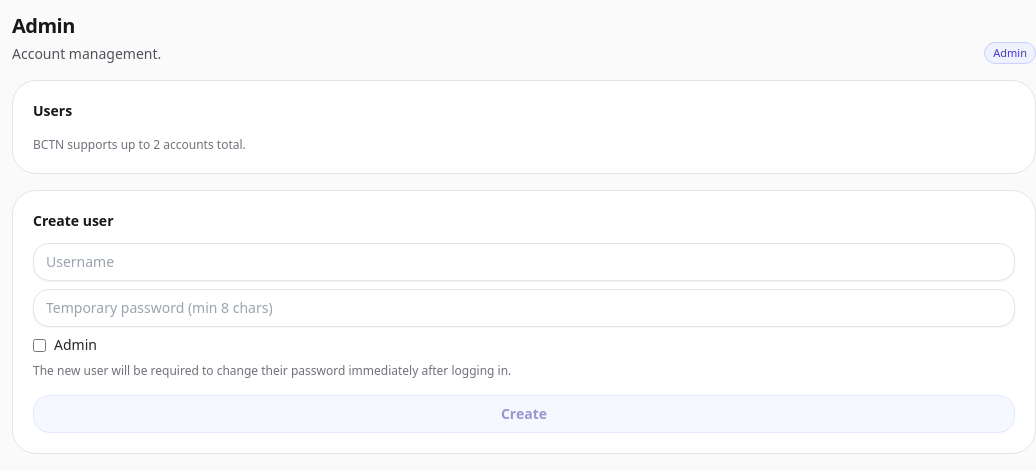
Scenario: admin page › creates a user and refreshes partner user list
Expected: the password field with placeholder "Temporary password (min 8 chars)" is shown, [33,289,1015,327]
Type "  newuser  " into the field with placeholder "Username" at [524, 262], box [33,243,1015,281]
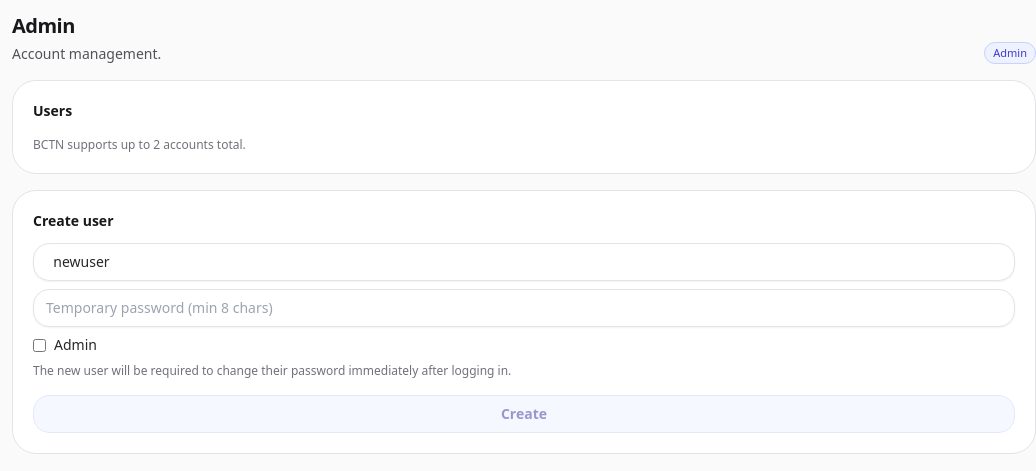
Type "temporary1" into the password field with placeholder "Temporary password (min 8 chars)" at [524, 308], box [33,289,1015,327]
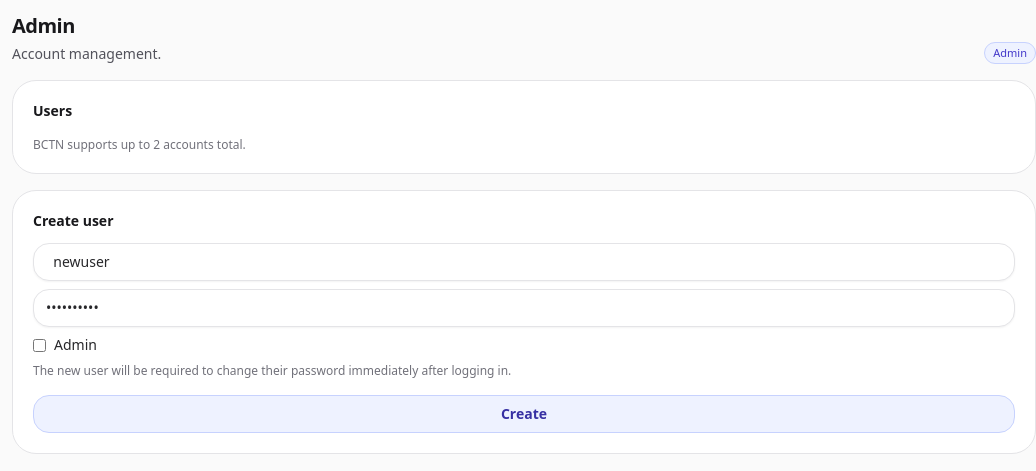
Click the button "Create" at [524, 414], box [33,395,1015,433]
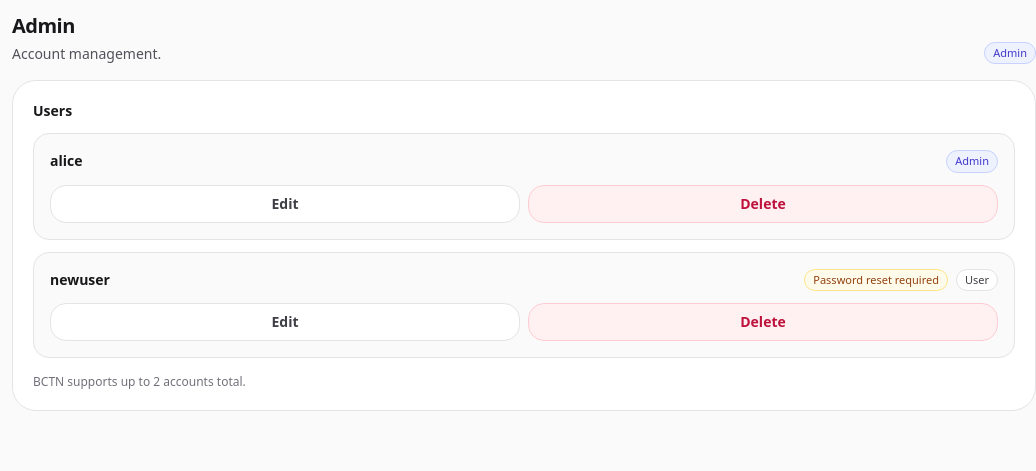
Expected: the text "newuser" is shown, [50,270,110,290]
